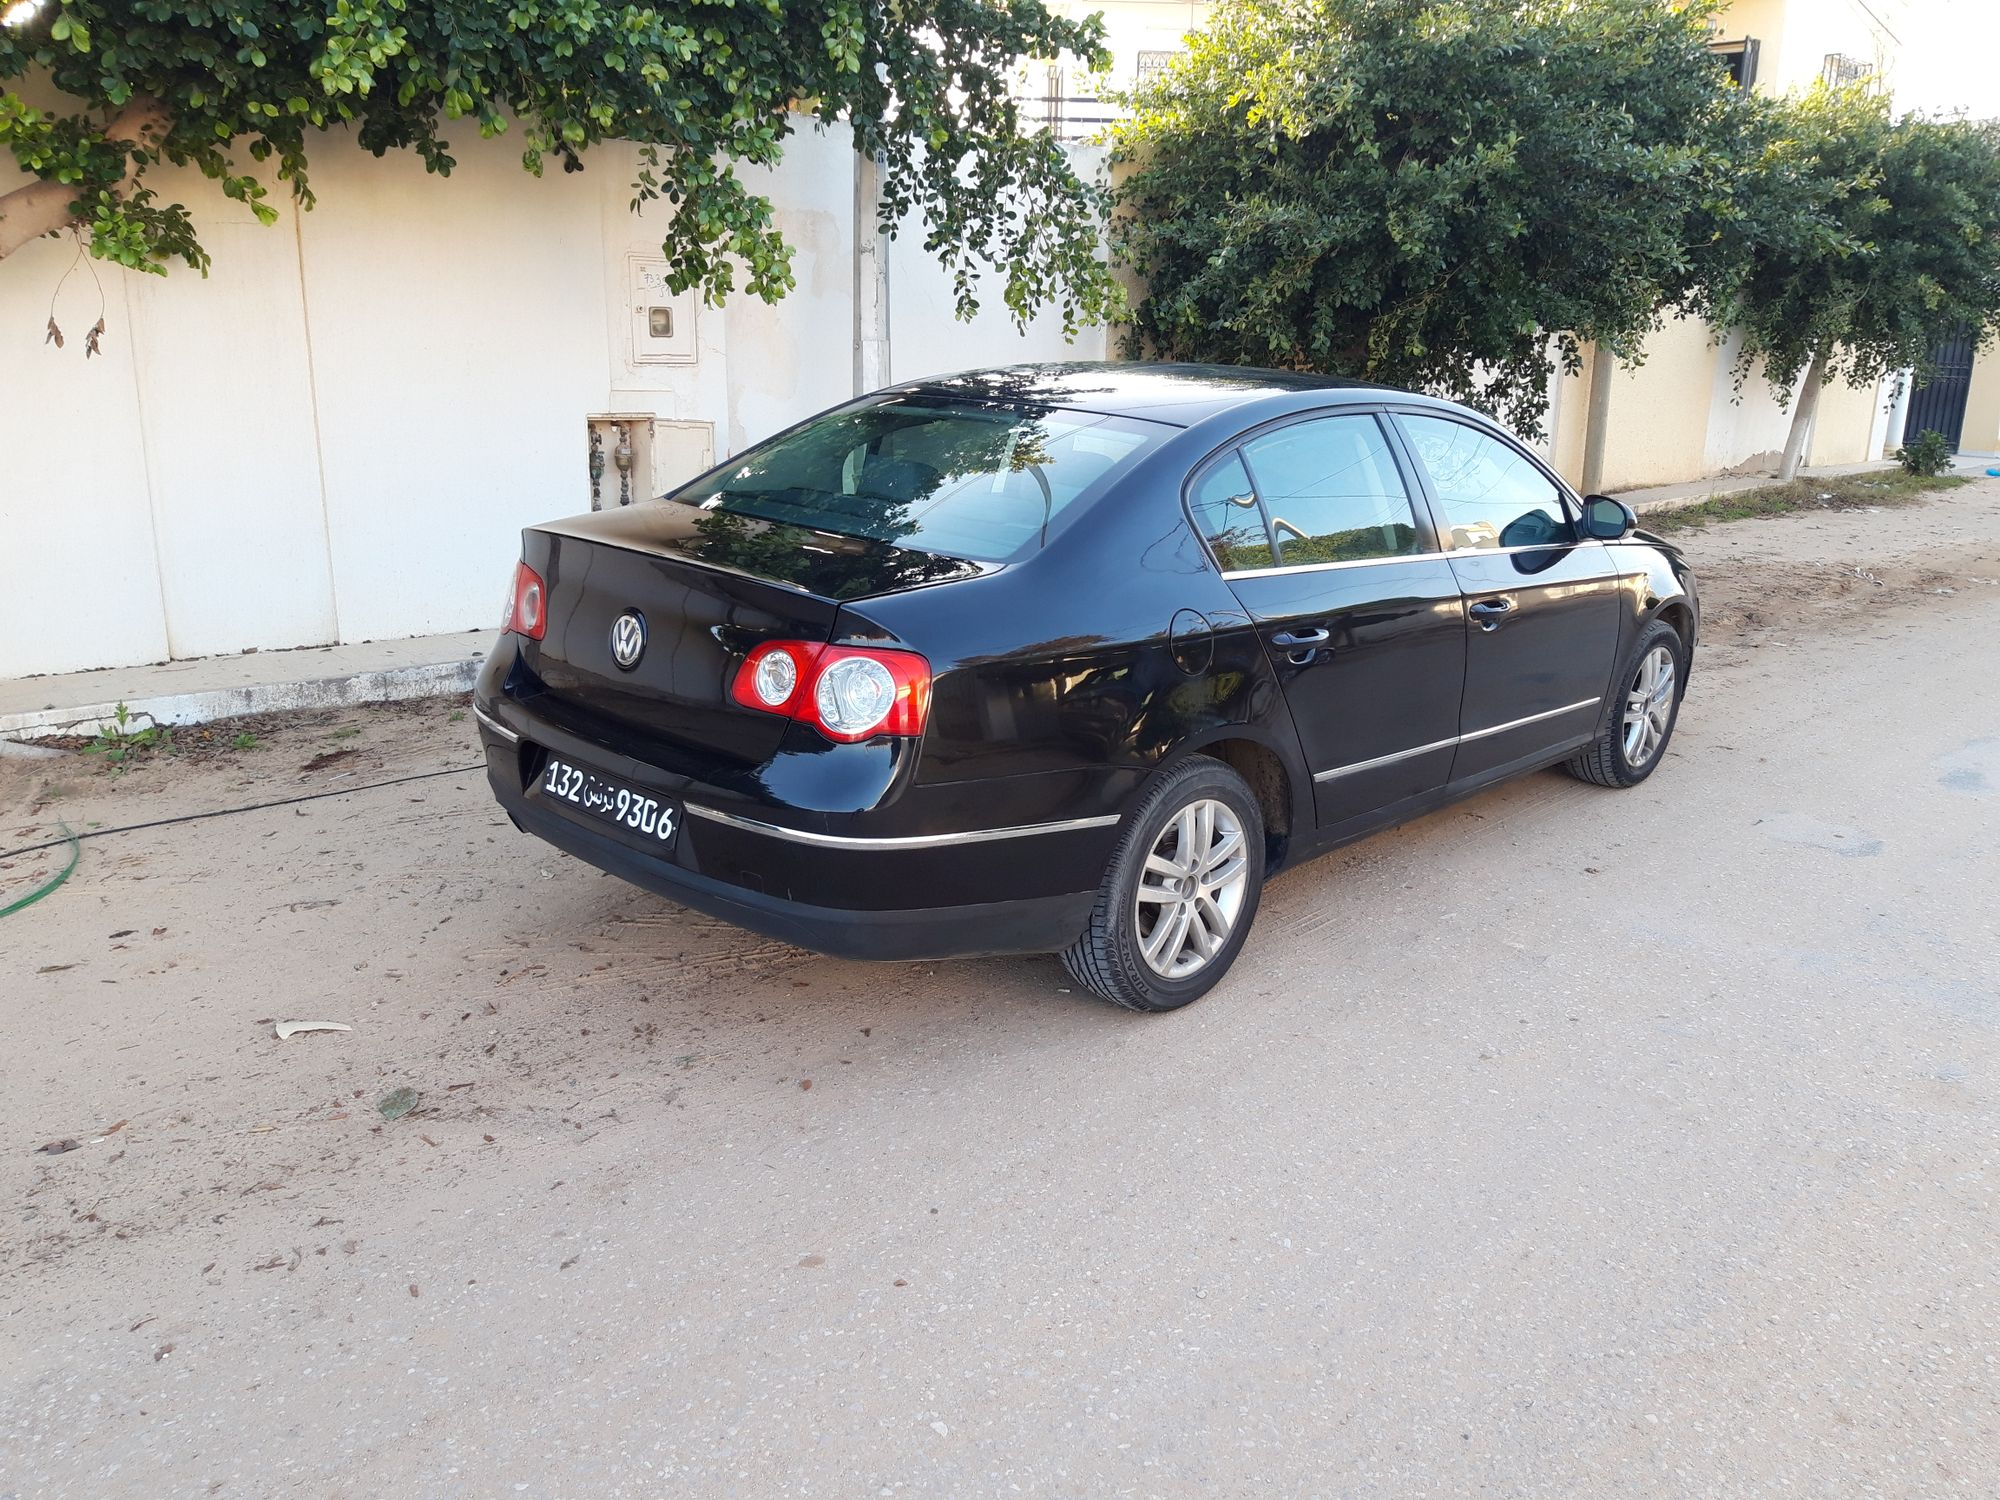LP: (535, 741, 686, 853)
